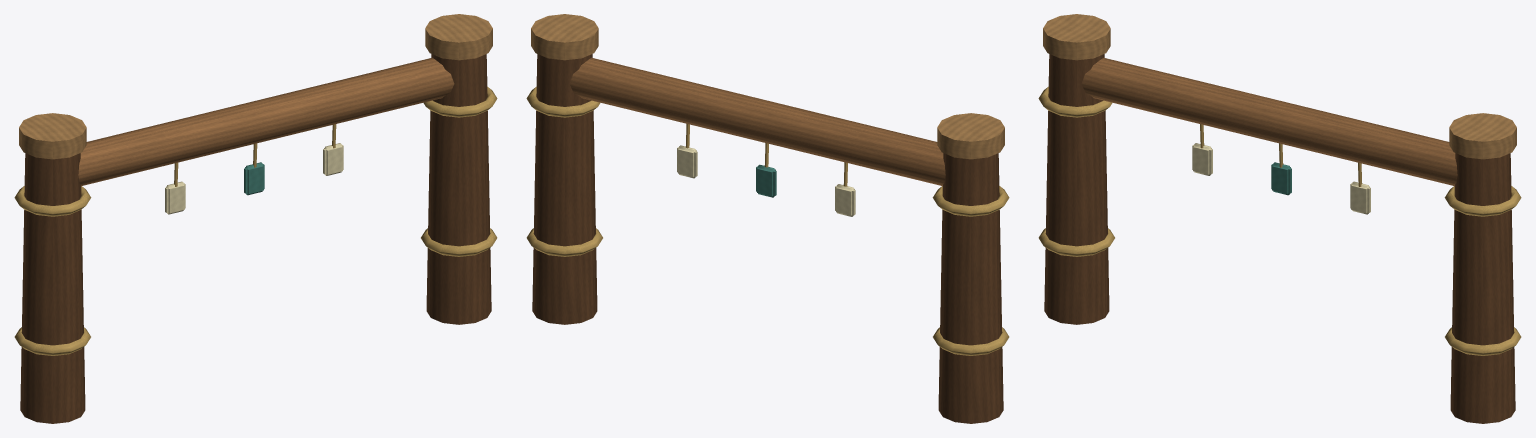
Rendered from oath-arch.fbx.
3 views of the same model, side by side, from view 1: azimuth 30°, elevation 25°; view 2: azimuth 150°, elevation 25°; view 3: azimuth 330°, elevation 25° (orthographic).
Parts seen in each view (by area): view 1: oath-arch__Geometry; view 2: oath-arch__Geometry; view 3: oath-arch__Geometry.
Part boxes in pixels (box(x1,y1,x2,y2)): oath-arch__Geometry: box(14, 14, 497, 423); oath-arch__Geometry: box(526, 14, 1009, 423); oath-arch__Geometry: box(1038, 14, 1521, 423).
Bounding box in the file's own units: 4.19 × 2.39 × 0.59.
